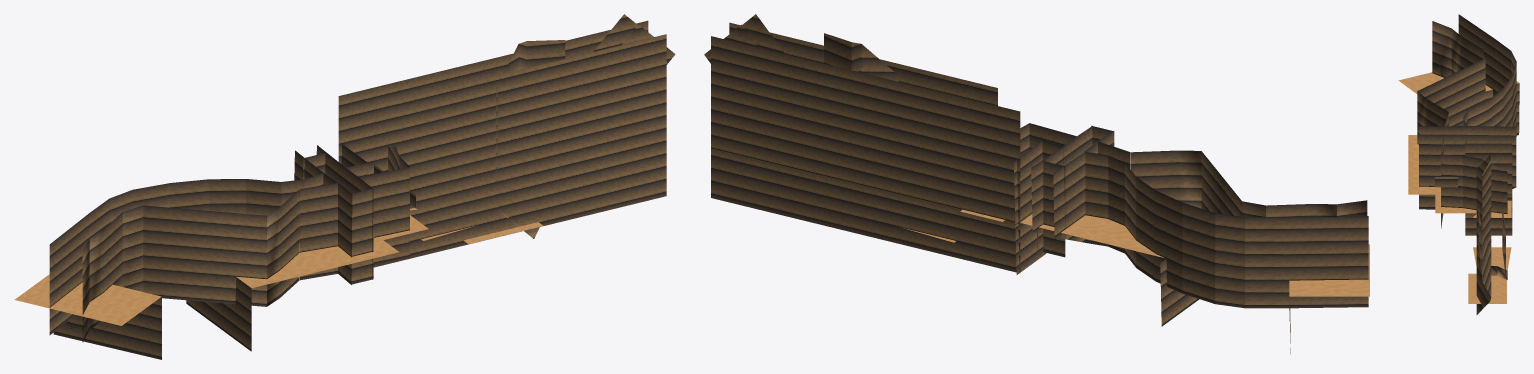
Rendered from LvlHielo.fbx.
3 renders of one model, left to right at view 1: azimuth 30°, elevation 25°; view 2: azimuth 150°, elevation 25°; view 3: azimuth 270°, elevation 25°, orthographic. The views are drawn at different scales.
Parts seen in each view (by area): view 1: walls, floors; view 2: walls, floors; view 3: walls, floors.
Boxes of the visible parts, bbox=[...] form: walls: bbox=[49, 14, 675, 359]; floors: bbox=[14, 208, 543, 325]; walls: bbox=[704, 14, 1368, 353]; floors: bbox=[903, 209, 1369, 296]; walls: bbox=[1417, 14, 1519, 314]; floors: bbox=[1398, 72, 1519, 303].
Size of the model in its own units: 38586 by 10914 by 7506.
